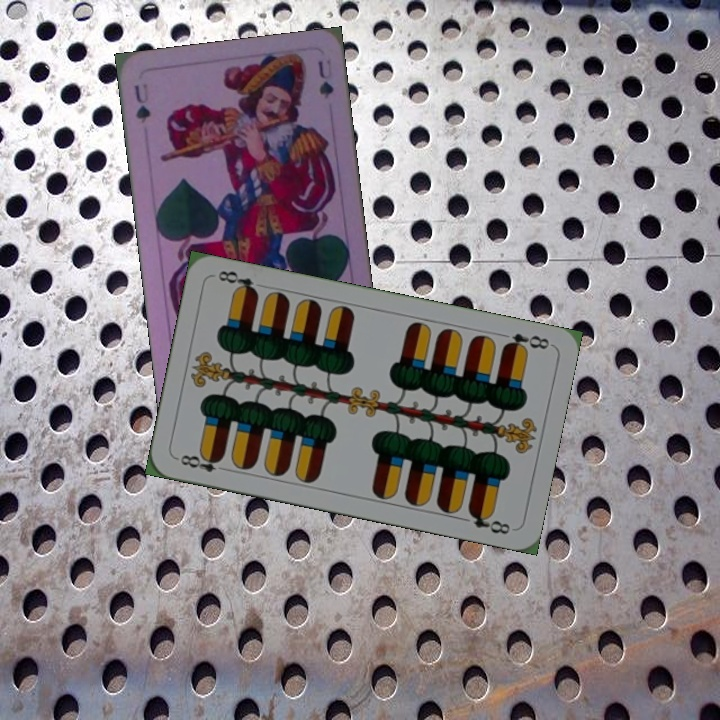E8: (173, 449, 231, 475), (499, 329, 552, 355)
GU: (130, 79, 153, 126)
